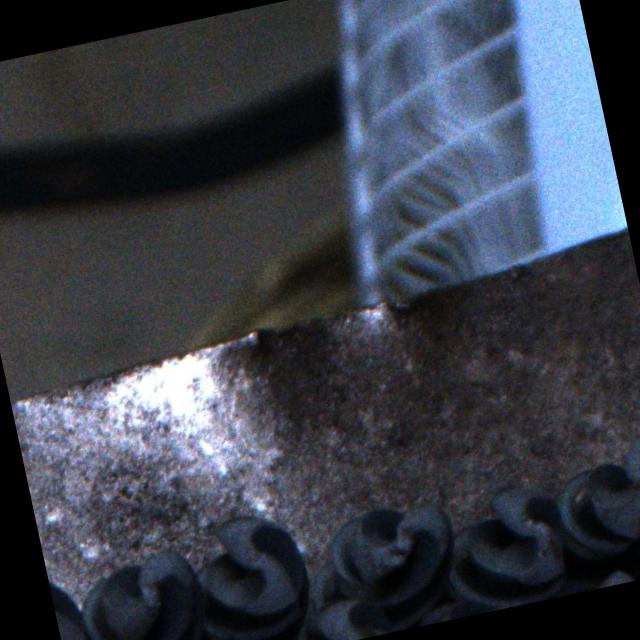tool_b: (180, 502, 341, 640), (320, 494, 469, 640), (434, 478, 579, 616), (543, 430, 640, 577), (70, 545, 214, 640), (283, 588, 401, 640), (44, 557, 98, 640)
